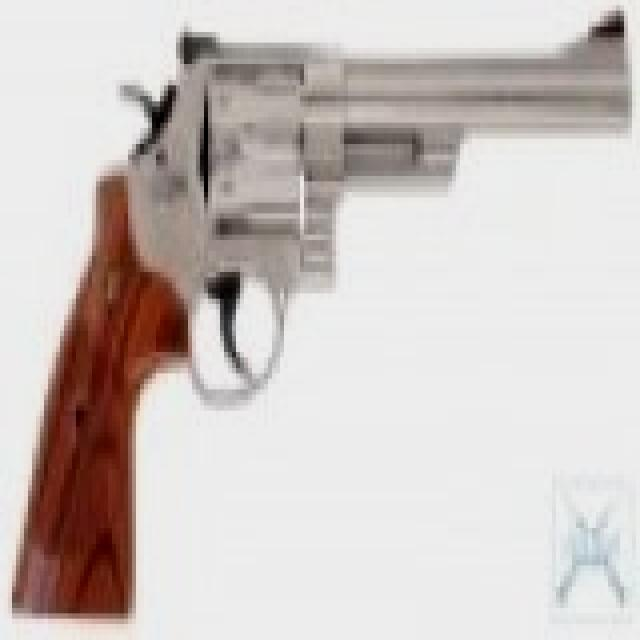pistol: (24, 5, 636, 608)
